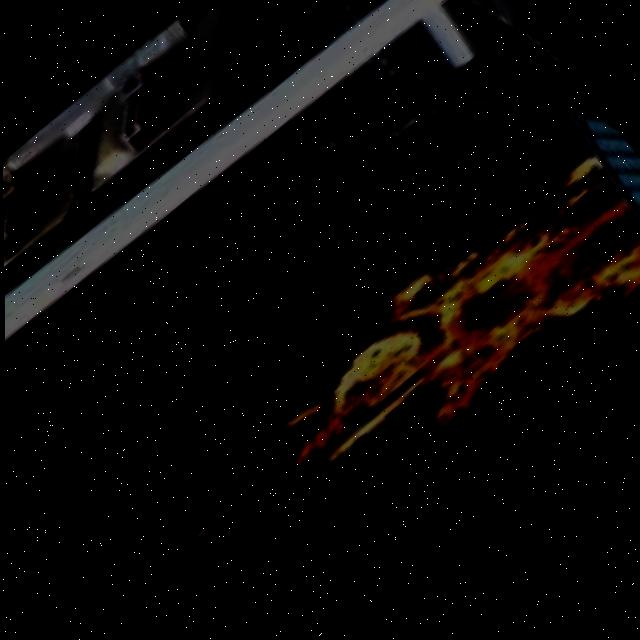Fire: (252, 139, 640, 534)
